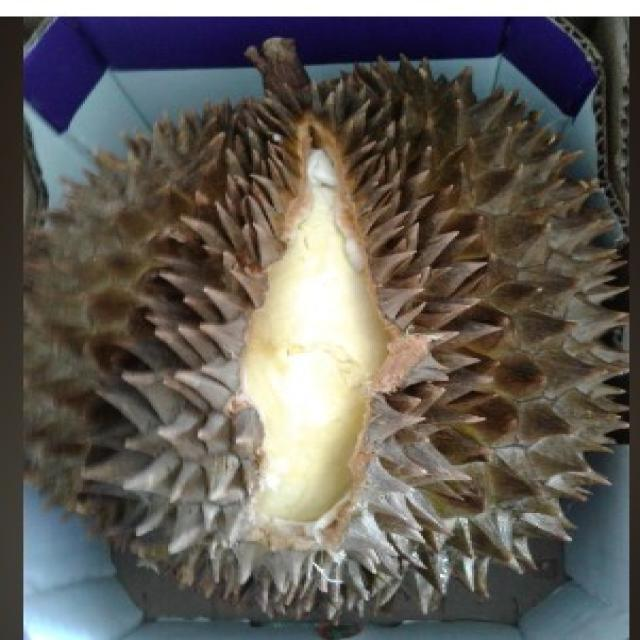defective: (22, 55, 628, 632)
